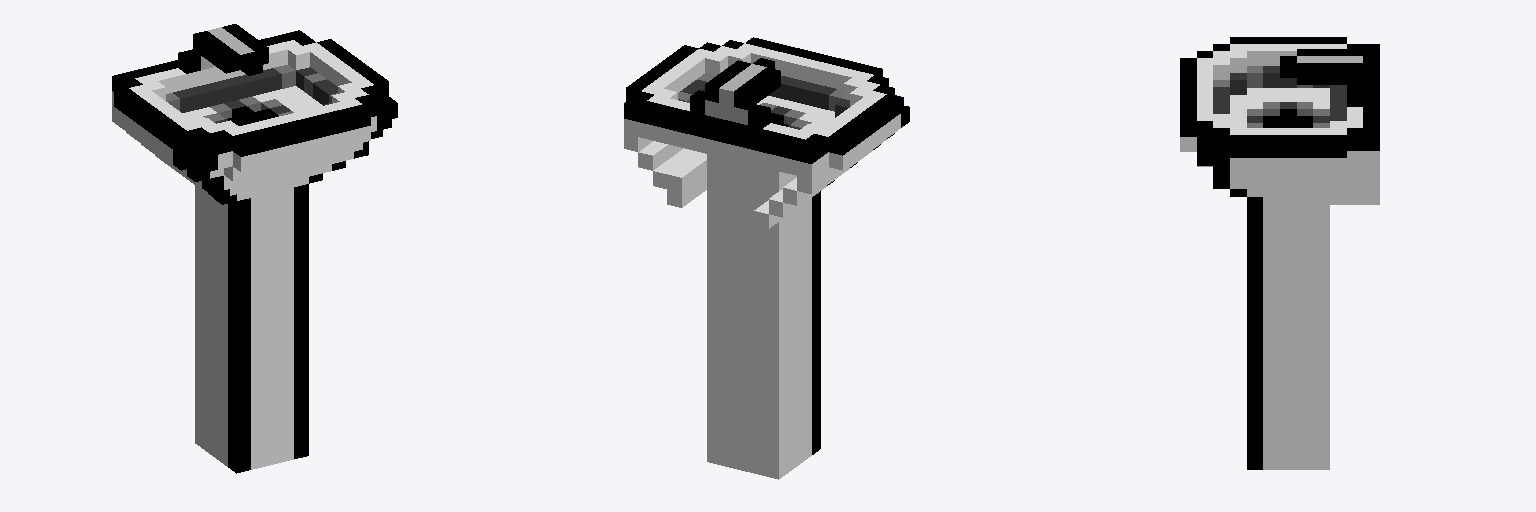
The picture shows the model from 3 angles: view 1: azimuth 30°, elevation 25°; view 2: azimuth 150°, elevation 25°; view 3: azimuth 270°, elevation 25°; orthographic projection.
Visible parts, largest first — view 1: Sink.002; view 2: Sink.002; view 3: Sink.002.
Part boxes in pixels (bbox=[...]): Sink.002: bbox=[112, 24, 397, 473]; Sink.002: bbox=[624, 37, 909, 479]; Sink.002: bbox=[1180, 37, 1379, 469].
Bounding box in the file's own units: 1.5 × 2.6 × 1.2.
Materials: 1 (1 with a texture image).